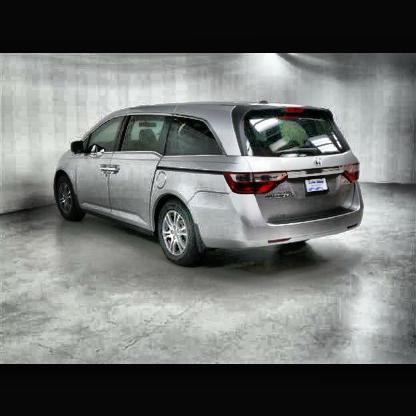Honda Odyssey Minivan 2012: (50, 96, 372, 273)
